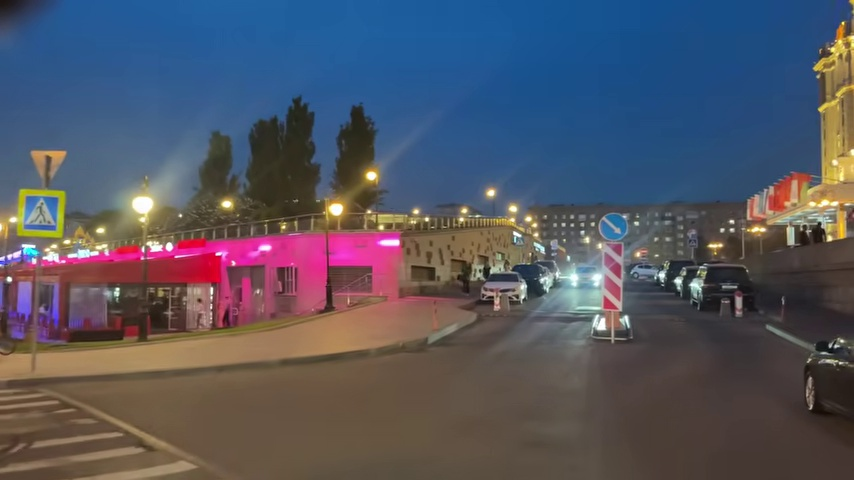acesa: (129, 192, 158, 224), (33, 150, 65, 173), (361, 166, 380, 186), (217, 196, 237, 214), (483, 185, 499, 200)
